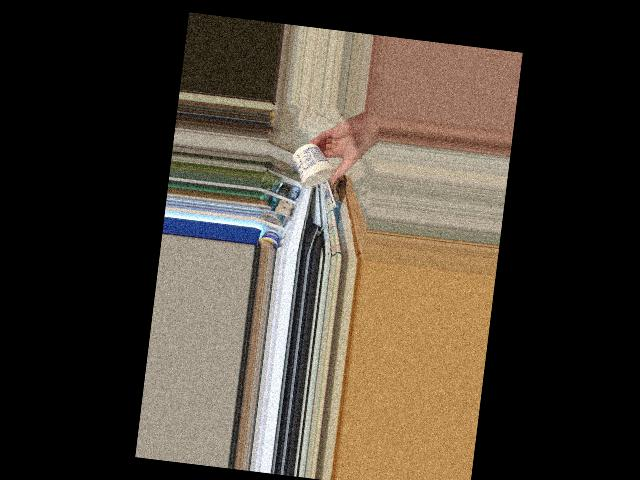cotage: (295, 142, 341, 186)
